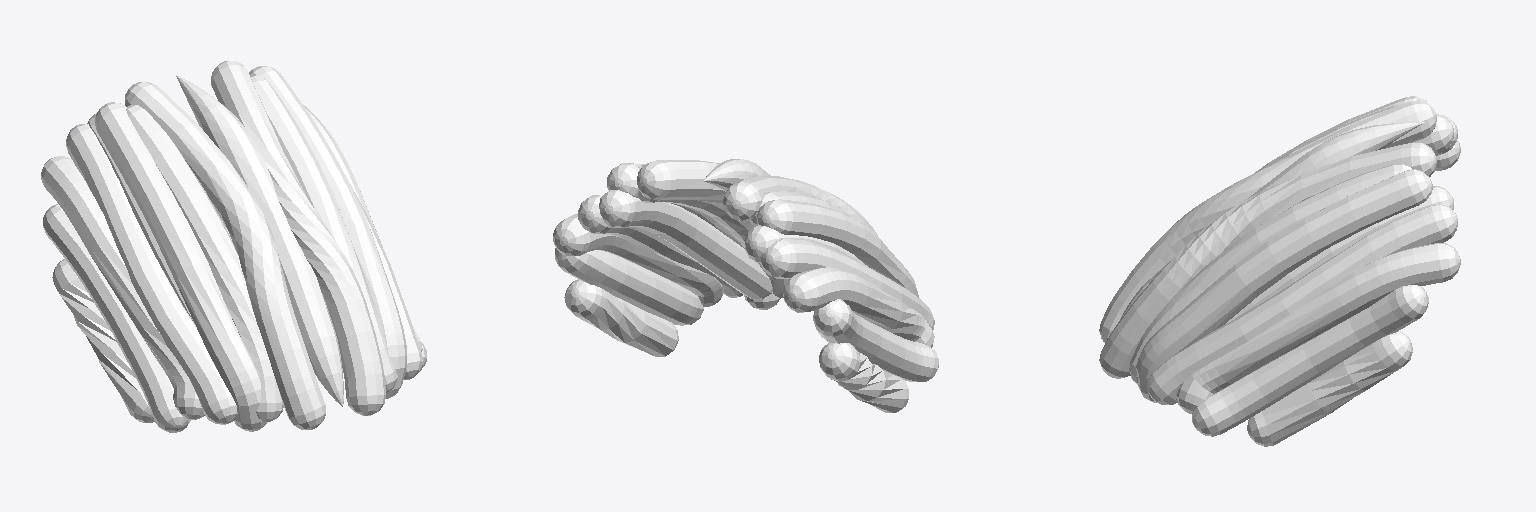
Rendered from Moje_letadlo_cockpit.obj.
3 views of the same model, side by side, from view 1: azimuth 30°, elevation 25°; view 2: azimuth 150°, elevation 25°; view 3: azimuth 270°, elevation 25° (orthographic).
Parts seen in each view (by area): view 1: s.0313Mirrored, s.0313, s.0316Mirrored, s.0317Mirrored, s.0394, s.0314Mirrored, s.0318Mirrored, s.0316, s.0319Mirrored, s.0314, s.0320Mirrored, s.0317 (+2 smaller); view 2: s.0315, s.0318Mirrored, s.0319, s.0316Mirrored, s.0319Mirrored, s.0320, s.0318, s.0317Mirrored, s.0320Mirrored, s.0313, s.0313Mirrored, s.0317 (+5 smaller); view 3: s.0316, s.0313, s.0318, s.0317, s.0319, s.0313Mirrored, s.0320, s.0314, s.0394, s.0315, s.0315Mirrored.
Boxes of the visible parts, x1=… form: s.0313Mirrored: x1=125, y1=82, x2=325, y2=429; s.0313: x1=211, y1=61, x2=385, y2=415; s.0316Mirrored: x1=95, y1=102, x2=266, y2=431; s.0317Mirrored: x1=66, y1=124, x2=237, y2=424; s.0394: x1=176, y1=75, x2=343, y2=406; s.0314Mirrored: x1=126, y1=105, x2=283, y2=422; s.0318Mirrored: x1=41, y1=156, x2=204, y2=419; s.0316: x1=249, y1=66, x2=406, y2=398; s.0319Mirrored: x1=43, y1=204, x2=190, y2=432; s.0314: x1=251, y1=76, x2=397, y2=392; s.0320Mirrored: x1=52, y1=259, x2=154, y2=422; s.0317: x1=350, y1=184, x2=422, y2=379; s.0315: x1=599, y1=190, x2=772, y2=299; s.0318Mirrored: x1=783, y1=267, x2=934, y2=347; s.0319: x1=555, y1=248, x2=703, y2=325; s.0316Mirrored: x1=756, y1=199, x2=918, y2=297; s.0319Mirrored: x1=813, y1=299, x2=938, y2=381; s.0320: x1=564, y1=279, x2=678, y2=356; s.0318: x1=553, y1=213, x2=723, y2=306; s.0317Mirrored: x1=761, y1=239, x2=934, y2=329; s.0320Mirrored: x1=819, y1=343, x2=908, y2=412; s.0313: x1=637, y1=160, x2=724, y2=202; s.0313Mirrored: x1=723, y1=176, x2=876, y2=233; s.0317: x1=578, y1=195, x2=742, y2=297; s.0316: x1=1136, y1=169, x2=1432, y2=402; s.0313: x1=1099, y1=143, x2=1436, y2=378; s.0318: x1=1176, y1=243, x2=1460, y2=413; s.0317: x1=1147, y1=204, x2=1457, y2=404; s.0319: x1=1192, y1=285, x2=1428, y2=436; s.0313Mirrored: x1=1099, y1=100, x2=1436, y2=342; s.0320: x1=1247, y1=331, x2=1412, y2=446; s.0314: x1=1129, y1=164, x2=1411, y2=384; s.0394: x1=1120, y1=122, x2=1424, y2=319; s.0315: x1=1226, y1=186, x2=1453, y2=323; s.0315Mirrored: x1=1413, y1=114, x2=1453, y2=153.
Size of the model in its own units: 10.44 by 9.05 by 11.18.